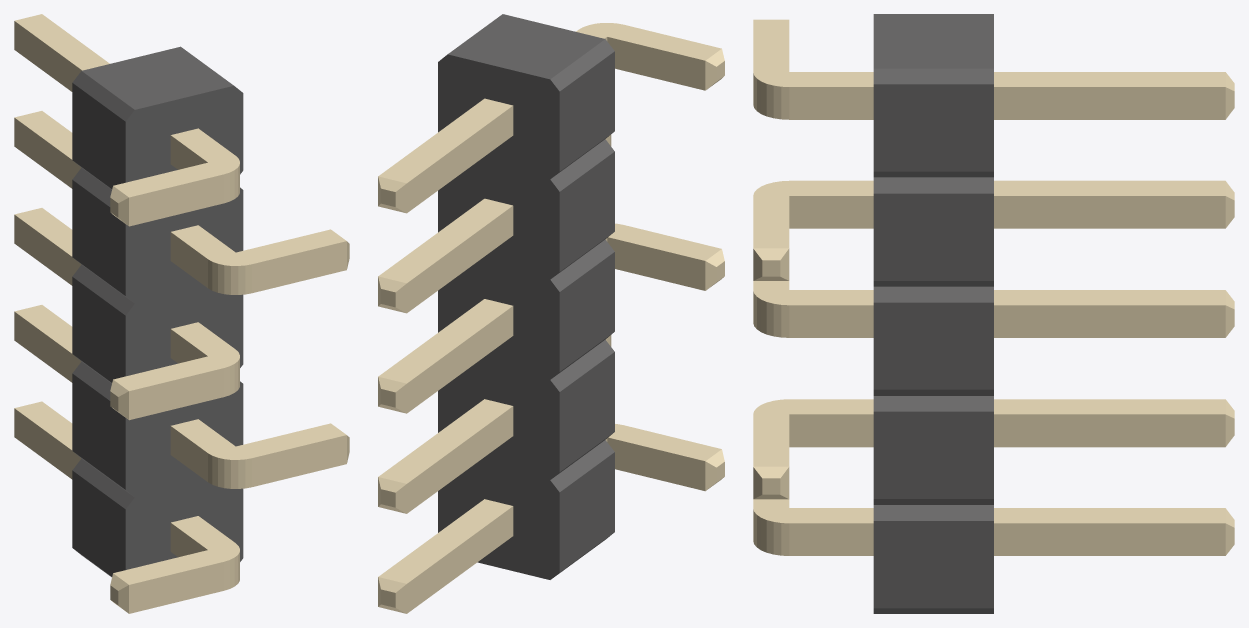
Rendered from PinHeader_1x05_P1.00mm_Vertical_SMD_Pin1Right.glb.
3 renders of one model, left to right at view 1: azimuth 30°, elevation 25°; view 2: azimuth 150°, elevation 25°; view 3: azimuth 270°, elevation 25°, orthographic. The views are drawn at different scales.
Visible parts, largest first — view 1: Shape_IndexedFaceSet.003, Shape_IndexedFaceSet.001, Shape_IndexedFaceSet.013, Shape_IndexedFaceSet.025, Shape_IndexedFaceSet.007, Shape_IndexedFaceSet.031, Shape_IndexedFaceSet.019, Shape_IndexedFaceSet.045, Shape_IndexedFaceSet.038, Shape_IndexedFaceSet.049, Shape_IndexedFaceSet.053, Shape_IndexedFaceSet.037 (+30 smaller); view 2: Shape_IndexedFaceSet.004, Shape_IndexedFaceSet.001, Shape_IndexedFaceSet.031, Shape_IndexedFaceSet.007, Shape_IndexedFaceSet.013, Shape_IndexedFaceSet.025, Shape_IndexedFaceSet.019, Shape_IndexedFaceSet.068, Shape_IndexedFaceSet.061, Shape_IndexedFaceSet.056, Shape_IndexedFaceSet.064, Shape_IndexedFaceSet.072 (+16 smaller); view 3: Shape_IndexedFaceSet.002, Shape_IndexedFaceSet.010, Shape_IndexedFaceSet.016, Shape_IndexedFaceSet.022, Shape_IndexedFaceSet.028, Shape_IndexedFaceSet.059, Shape_IndexedFaceSet.054, Shape_IndexedFaceSet.062, Shape_IndexedFaceSet.066, Shape_IndexedFaceSet.070, Shape_IndexedFaceSet.001, Shape_IndexedFaceSet.045 (+27 smaller).
Boxes of the visible parts, box(x1,y1,x2,y2) form: Shape_IndexedFaceSet.003: box(125, 86, 243, 569); Shape_IndexedFaceSet.001: box(82, 46, 233, 109); Shape_IndexedFaceSet.013: box(72, 180, 125, 295); Shape_IndexedFaceSet.025: box(72, 373, 125, 489); Shape_IndexedFaceSet.007: box(72, 83, 125, 188); Shape_IndexedFaceSet.031: box(72, 470, 125, 576); Shape_IndexedFaceSet.019: box(72, 277, 125, 382); Shape_IndexedFaceSet.045: box(171, 225, 346, 265); Shape_IndexedFaceSet.038: box(171, 419, 346, 459); Shape_IndexedFaceSet.049: box(113, 322, 239, 390); Shape_IndexedFaceSet.053: box(113, 128, 239, 197); Shape_IndexedFaceSet.037: box(113, 516, 239, 584); Shape_IndexedFaceSet.004: box(438, 54, 559, 579); Shape_IndexedFaceSet.001: box(448, 14, 604, 79); Shape_IndexedFaceSet.031: box(559, 452, 614, 572); Shape_IndexedFaceSet.007: box(559, 51, 614, 171); Shape_IndexedFaceSet.013: box(559, 151, 614, 271); Shape_IndexedFaceSet.025: box(559, 352, 614, 471); Shape_IndexedFaceSet.019: box(559, 252, 614, 371); Shape_IndexedFaceSet.068: box(407, 306, 513, 413); Shape_IndexedFaceSet.061: box(407, 406, 513, 513); Shape_IndexedFaceSet.056: box(407, 506, 513, 613); Shape_IndexedFaceSet.064: box(407, 206, 513, 312); Shape_IndexedFaceSet.072: box(407, 106, 513, 212); Shape_IndexedFaceSet.002: box(873, 84, 993, 171); Shape_IndexedFaceSet.010: box(873, 193, 993, 280); Shape_IndexedFaceSet.016: box(873, 302, 993, 389); Shape_IndexedFaceSet.022: box(873, 411, 993, 498); Shape_IndexedFaceSet.028: box(873, 521, 993, 608); Shape_IndexedFaceSet.059: box(994, 414, 1225, 447); Shape_IndexedFaceSet.054: box(994, 523, 1225, 555); Shape_IndexedFaceSet.062: box(994, 196, 1225, 228); Shape_IndexedFaceSet.066: box(994, 305, 1225, 337); Shape_IndexedFaceSet.070: box(994, 87, 1225, 119); Shape_IndexedFaceSet.001: box(873, 14, 993, 68); Shape_IndexedFaceSet.045: box(753, 180, 873, 248).
Size of the model in its own units: 0.984 by 1.97 by 1.58.
